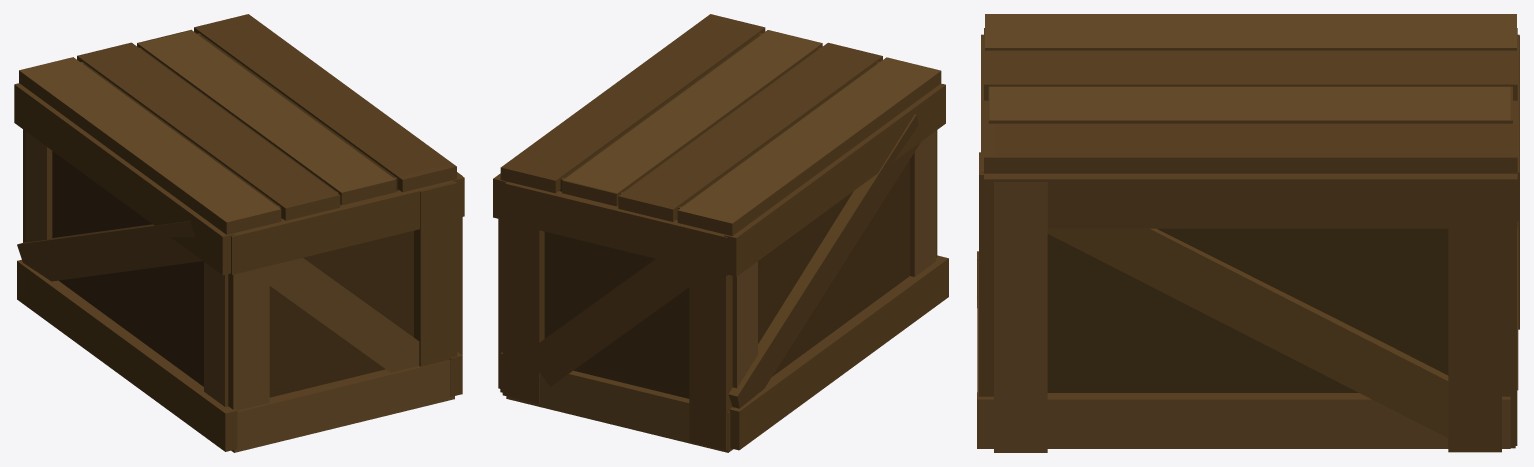
Rendered from crate_fbx.fbx.
3 renders of one model, left to right at view 1: azimuth 30°, elevation 25°; view 2: azimuth 150°, elevation 25°; view 3: azimuth 270°, elevation 25°, orthographic. The views are drawn at different scales.
Parts seen in each view (by area): view 1: crate; view 2: crate; view 3: crate.
Part boxes in pixels (x1=…): crate: x1=14, y1=14, x2=464, y2=452; crate: x1=493, y1=14, x2=948, y2=452; crate: x1=977, y1=14, x2=1519, y2=452.
Bounding box in the file's own units: 65.36 × 58.54 × 97.84.
